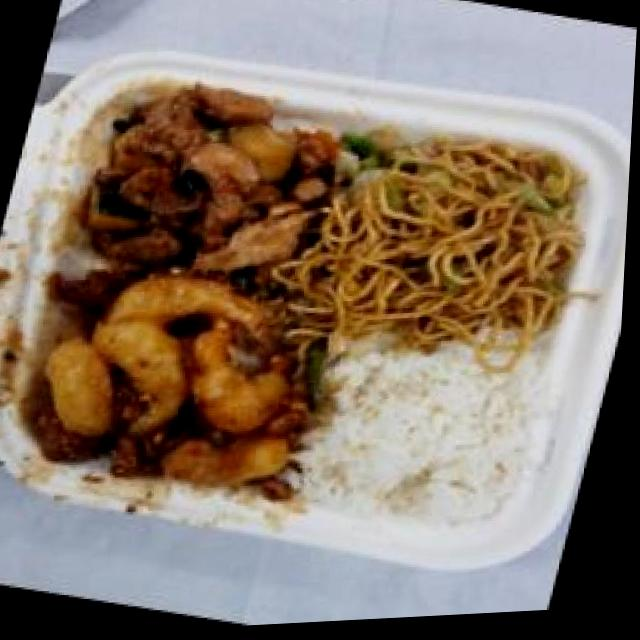Chow Mein: (289, 107, 613, 388)
Honey Walnut Shrimp: (4, 245, 347, 522)
Kung Pao Chicken: (60, 63, 353, 318)
White Steamed Rice: (287, 321, 564, 555)
